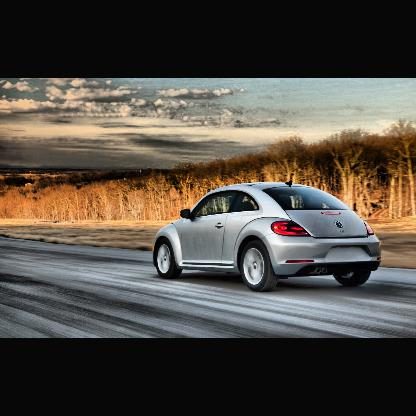Volkswagen Beetle Hatchback 2012: (150, 181, 384, 293)
